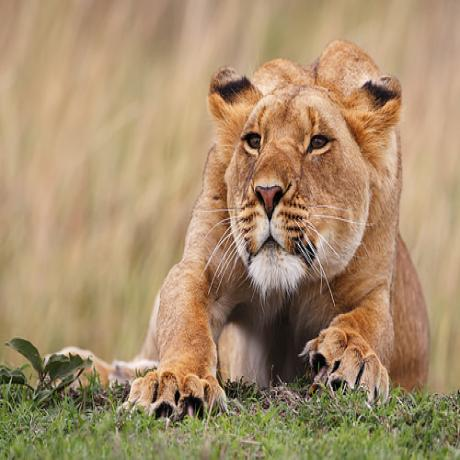Lion: (116, 40, 437, 411)
